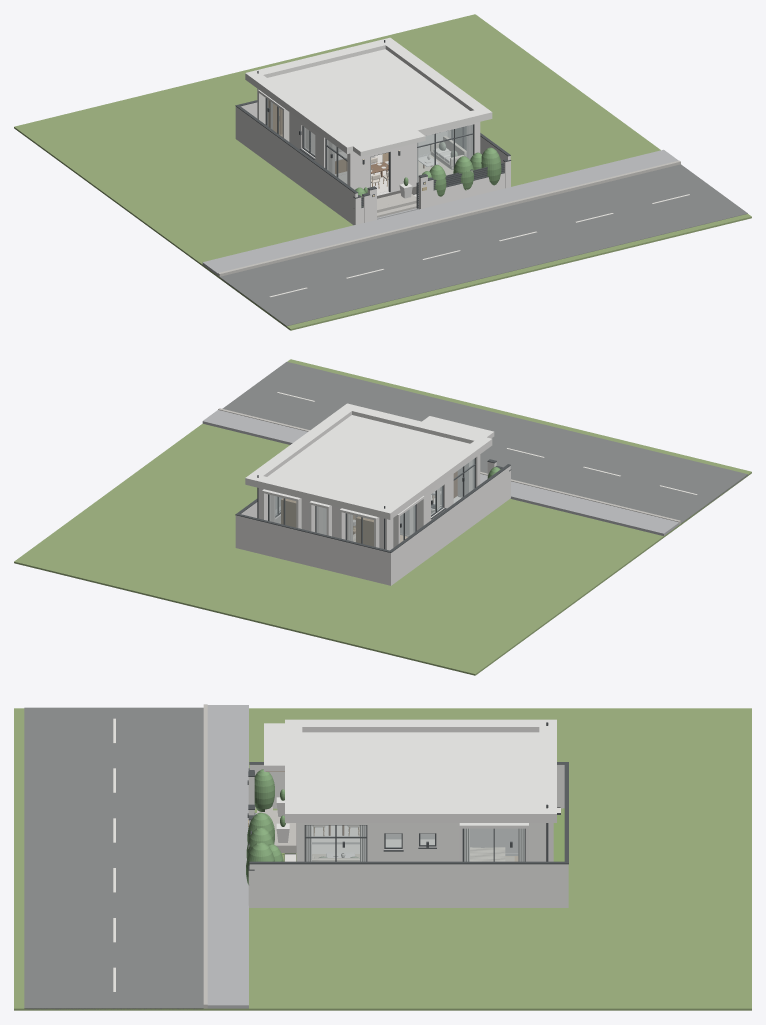
The picture shows the model from 3 angles, top to bottom: view 1: azimuth 30°, elevation 25°; view 2: azimuth 150°, elevation 25°; view 3: azimuth 270°, elevation 25°; orthographic projection. The views are drawn at different scales.
Visible parts, largest first — view 1: world, roof-slab, roof-overhang, roof-upstand, F0-W002/0, exterior-porch-01-slab, F0-W001/0; view 2: world, roof-slab, roof-overhang, roof-upstand, exterior-porch-01-slab; view 3: world, roof-slab, roof-overhang, roof-upstand, exterior-porch-01-slab, F0-W019/0, F0-W024/1, F0-dining/floor, F0-W021/0, rear-lawn-0.
Part boxes in pixels (x1=…): world: x1=14, y1=14, x2=751, y2=330; roof-slab: x1=267, y1=49, x2=469, y2=139; roof-overhang: x1=245, y1=37, x2=492, y2=153; roof-upstand: x1=257, y1=43, x2=479, y2=142; F0-W002/0: x1=354, y1=146, x2=415, y2=192; exterior-porch-01-slab: x1=353, y1=127, x2=425, y2=156; F0-W001/0: x1=318, y1=134, x2=354, y2=189; world: x1=14, y1=359, x2=751, y2=675; roof-slab: x1=267, y1=415, x2=469, y2=505; roof-overhang: x1=245, y1=403, x2=492, y2=519; roof-upstand: x1=258, y1=408, x2=479, y2=508; exterior-porch-01-slab: x1=417, y1=416, x2=494, y2=440; world: x1=14, y1=704, x2=751, y2=1010; roof-slab: x1=302, y1=732, x2=539, y2=806; roof-overhang: x1=285, y1=719, x2=556, y2=822; roof-upstand: x1=296, y1=724, x2=545, y2=808; exterior-porch-01-slab: x1=264, y1=723, x2=296, y2=771; F0-W019/0: x1=476, y1=828, x2=518, y2=853; F0-W024/1: x1=449, y1=825, x2=539, y2=861; F0-dining/floor: x1=312, y1=825, x2=359, y2=841; F0-W021/0: x1=302, y1=825, x2=381, y2=861; rear-lawn-0: x1=553, y1=808, x2=564, y2=861.
Bounding box in the file's own units: 27.14 × 4.08 × 28.19.
